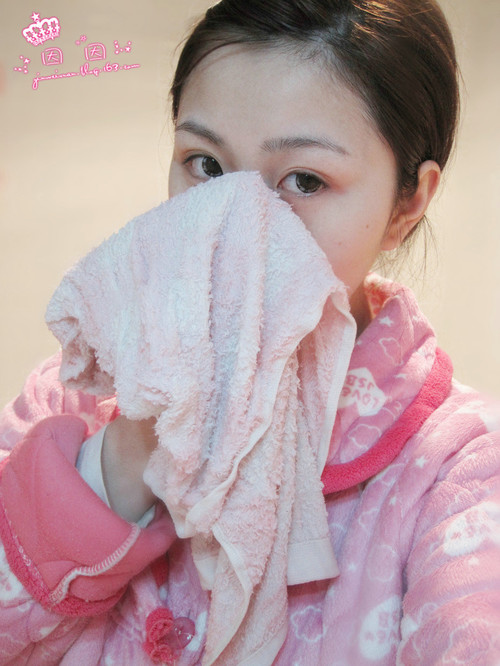face: (168, 32, 378, 341)
